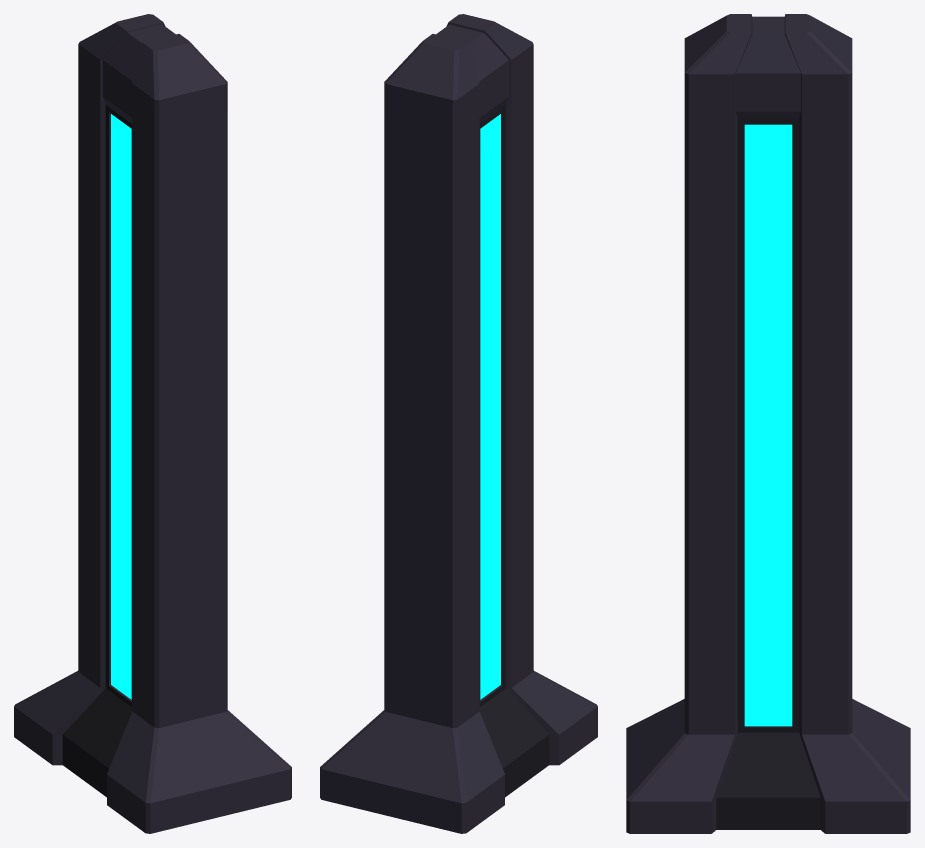
File: column.glb
The picture shows the model from 3 angles, left to right: view 1: azimuth 30°, elevation 25°; view 2: azimuth 150°, elevation 25°; view 3: azimuth 270°, elevation 25°; orthographic projection. The views are drawn at different scales.
Parts seen in each view (by area): view 1: Pylonne; view 2: Pylonne; view 3: Pylonne.
Part boxes in pixels (x1,y1,x2,y2): Pylonne: (14, 14, 291, 833); Pylonne: (320, 14, 597, 833); Pylonne: (626, 14, 910, 833).
Bounding box in the file's own units: 0.5 × 2.4 × 0.8.
